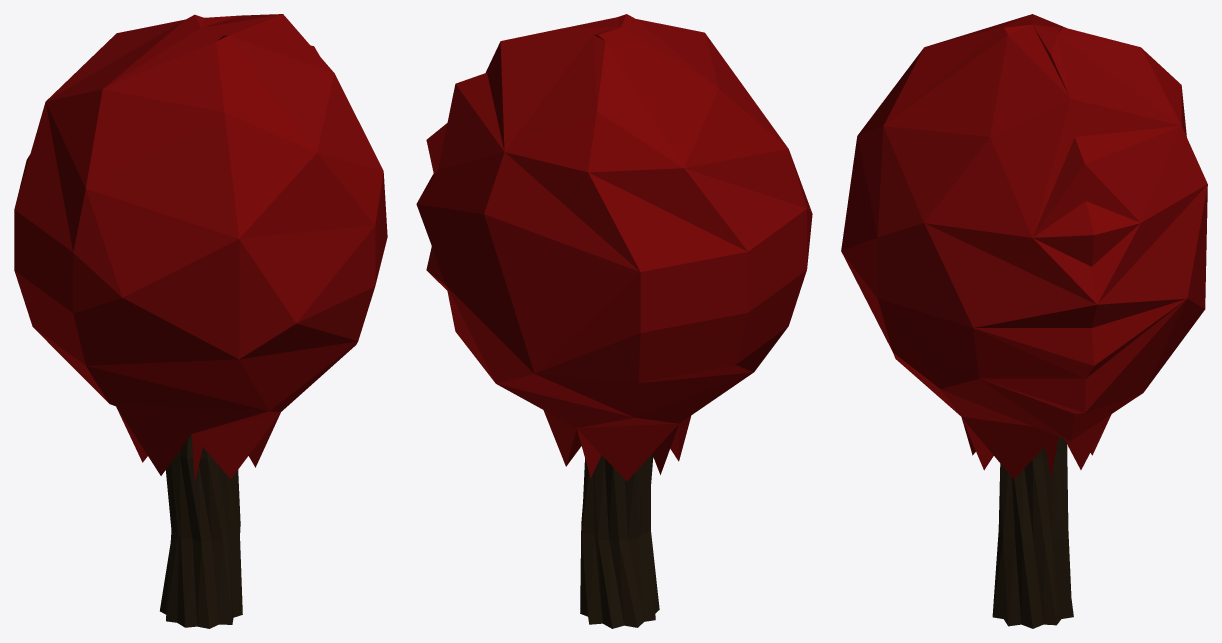
Rendered from NormalTree_Red.fbx.
3 views of the same model, side by side, from view 1: azimuth 30°, elevation 25°; view 2: azimuth 150°, elevation 25°; view 3: azimuth 270°, elevation 25° (orthographic).
Parts seen in each view (by area): view 1: Trees:pSphere1, Trees:pCylinder1; view 2: Trees:pSphere1, Trees:pCylinder1; view 3: Trees:pSphere1, Trees:pCylinder1.
Boxes of the visible parts, x1,y1,x2,y2 form: Trees:pSphere1: (14,14,387,481); Trees:pCylinder1: (160,434,242,628); Trees:pSphere1: (416,14,812,481); Trees:pCylinder1: (580,454,659,628); Trees:pSphere1: (841,14,1207,479); Trees:pCylinder1: (992,437,1073,628).
Size of the model in its own units: 0.171 by 0.291 by 0.1645.
